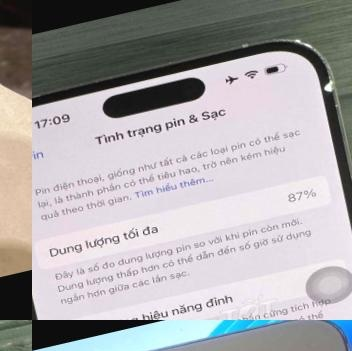scratch: (32, 16, 314, 123)
